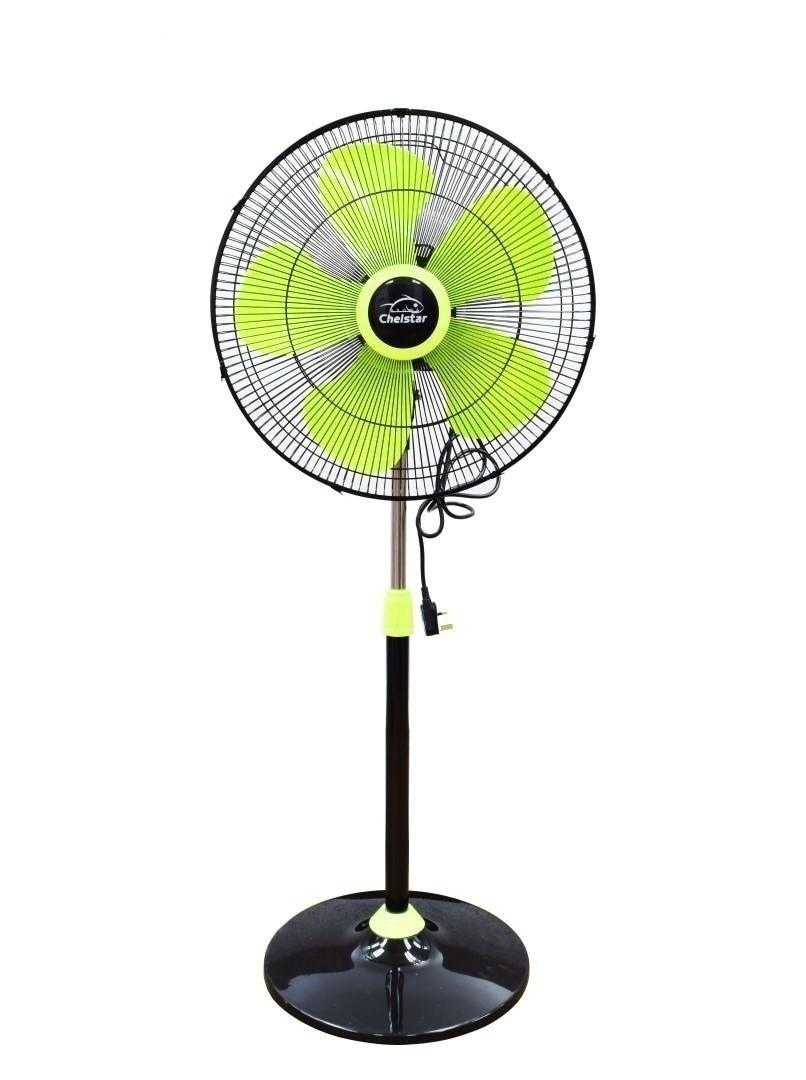fan: (174, 48, 655, 1060)
